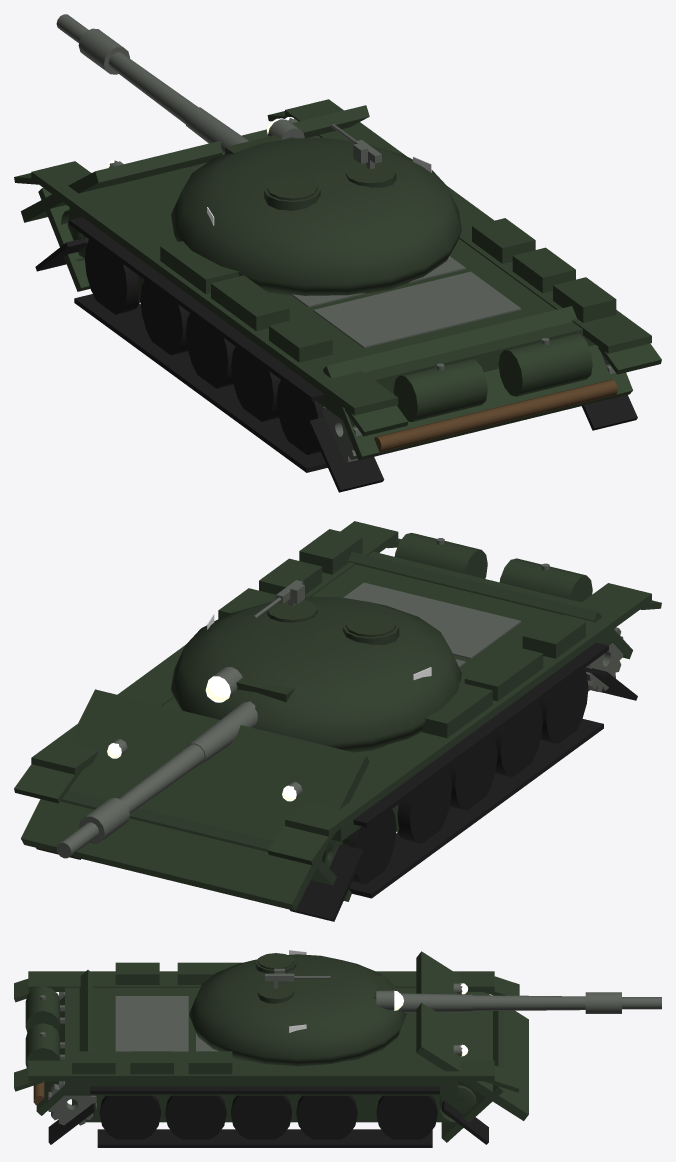
File: t54-tank.glb
3 renders of one model, top to bottom at view 1: azimuth 30°, elevation 25°; view 2: azimuth 150°, elevation 25°; view 3: azimuth 270°, elevation 25°, orthographic. The views are drawn at different scales.
Visible parts, largest first — view 1: Mesh_TurretDome, Mesh_HullUpper, Mesh_FenderL, Mesh_HullRear, Mesh_EngineGrill1, Mesh_TrackL_TrackBot, Mesh_FenderR, Mesh_GlacisUpper, Mesh_TrackL_TrackTop, Mesh_FuelDrumR, Mesh_FuelDrumL, Mesh_UnditchingLog (+23 smaller); view 2: Mesh_GlacisUpper, Mesh_TurretDome, Mesh_FenderL, Mesh_HullUpper, Mesh_TrackL_TrackBot, Mesh_FenderR, Mesh_EngineGrill1, Mesh_TrackL_TrackTop, Mesh_HullRear, Mesh_GlacisLower, Mesh_TrackL_Tire_1, Mesh_FuelDrumR (+23 smaller); view 3: Mesh_TurretDome, Mesh_HullUpper, Mesh_GlacisUpper, Mesh_FenderR, Mesh_TrackR_TrackBot, Mesh_EngineGrill1, Mesh_TrackR_TrackTop, Mesh_FenderL, Mesh_TrackR_Tire_3, Mesh_TrackR_Tire_0, Mesh_TrackR_Tire_1, Mesh_TrackR_Tire_4 (+25 smaller).
Boxes of the visible parts, x1,y1,x2,y2 form: Mesh_TurretDome: (171, 138, 461, 295); Mesh_HullUpper: (69, 135, 595, 419); Mesh_FenderL: (31, 161, 398, 415); Mesh_HullRear: (323, 306, 632, 460); Mesh_EngineGrill1: (313, 271, 521, 348); Mesh_TrackL_TrackBot: (74, 294, 327, 472); Mesh_FenderR: (285, 99, 651, 353); Mesh_GlacisUpper: (21, 105, 369, 222); Mesh_TrackL_TrackTop: (69, 217, 324, 401); Mesh_FuelDrumR: (498, 332, 592, 396); Mesh_FuelDrumL: (393, 358, 487, 422); Mesh_UnditchingLog: (374, 379, 617, 452); Mesh_GlacisUpper: (21, 689, 369, 910); Mesh_TurretDome: (171, 596, 461, 752); Mesh_FenderL: (285, 583, 651, 836); Mesh_HullUpper: (162, 551, 613, 841); Mesh_TrackL_TrackBot: (349, 718, 603, 898); Mesh_FenderR: (31, 521, 398, 775); Mesh_EngineGrill1: (343, 582, 521, 658); Mesh_TrackL_TrackTop: (353, 642, 608, 827); Mesh_HullRear: (348, 552, 632, 659); Mesh_GlacisLower: (60, 791, 351, 901); Mesh_TrackL_Tire_1: (397, 768, 451, 843); Mesh_FuelDrumR: (394, 533, 487, 578); Mesh_TurretDome: (189, 954, 406, 1066); Mesh_HullUpper: (65, 987, 457, 1095); Mesh_GlacisUpper: (416, 951, 528, 1120); Mesh_FenderR: (28, 1060, 494, 1081); Mesh_TrackR_TrackBot: (97, 1129, 432, 1147); Mesh_EngineGrill1: (115, 996, 188, 1052); Mesh_TrackR_TrackTop: (90, 1086, 439, 1094); Mesh_FenderL: (28, 971, 494, 991); Mesh_TrackR_Tire_3: (165, 1095, 226, 1139); Mesh_TrackR_Tire_0: (376, 1095, 437, 1139); Mesh_TrackR_Tire_1: (296, 1095, 357, 1139); Mesh_TrackR_Tire_4: (99, 1095, 160, 1139).
Bounding box in the file's own units: 3.4 × 2.08 × 8.9.
